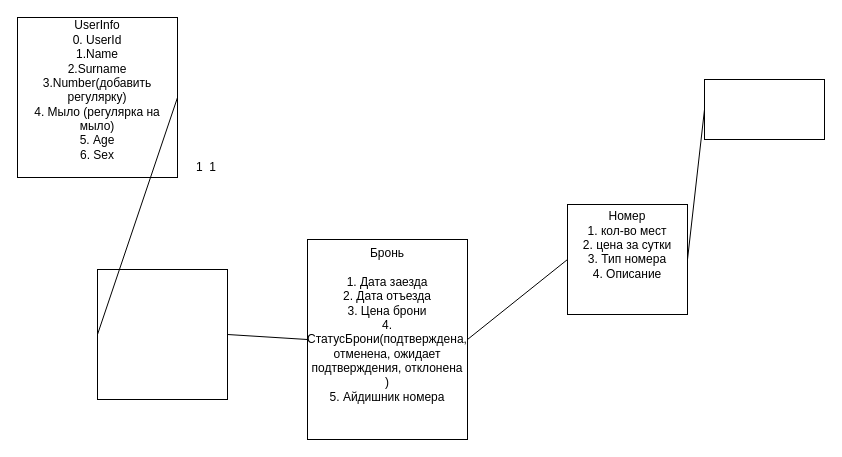
The diagram is 842 pixels wide and 457 high, and some of its shapes have lost their labels. Each missing label, with the box of its shape:
Client 1.id 2.login 3.pass(encrypt) 4.UserInfo 5. UserRole: (96, 268, 228, 400)
Отель 1. всякая инфа: (704, 78, 824, 140)
